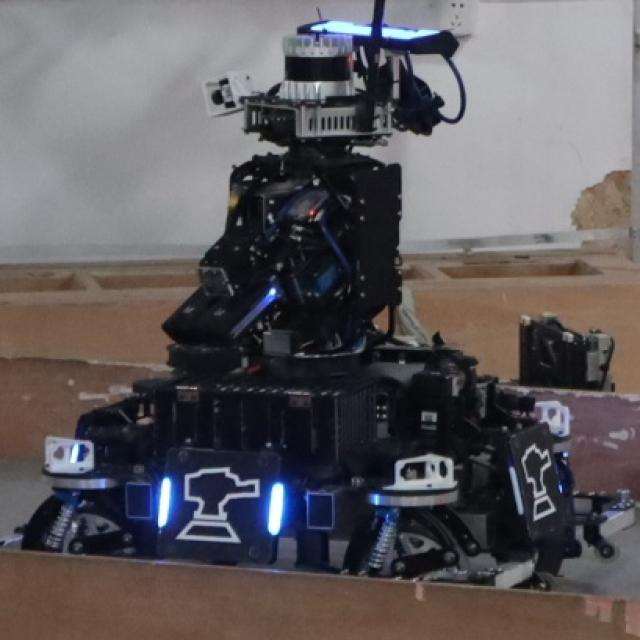Bs: (150, 452, 286, 552)
